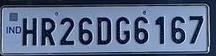1: (154, 14, 166, 44)
2: (58, 16, 75, 45)
6: (76, 15, 93, 44), (169, 14, 185, 44), (133, 15, 149, 44)
7: (187, 13, 203, 44)
D: (95, 16, 112, 46)
G: (113, 15, 131, 44)
H: (20, 16, 39, 46)
R: (39, 16, 56, 46)
